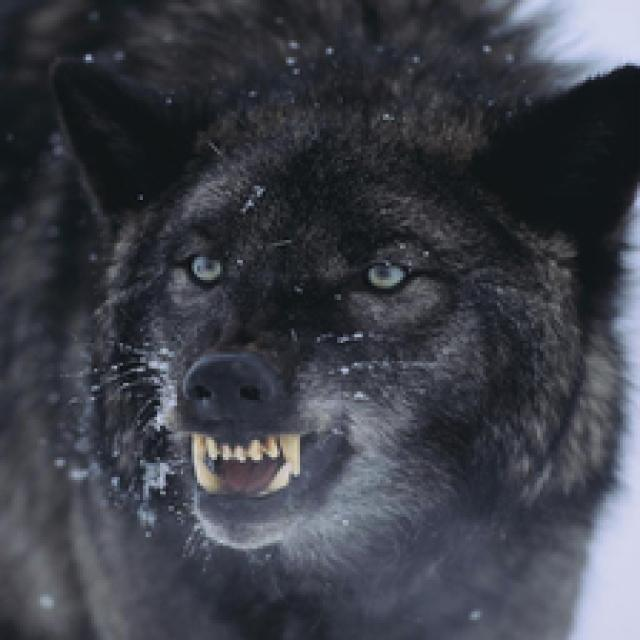wolf: (9, 7, 640, 640)
